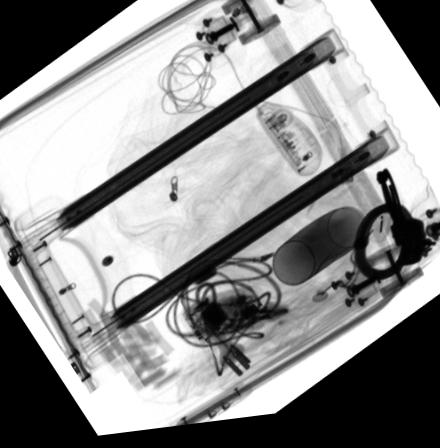HandCuffs: (350, 177, 439, 293)
